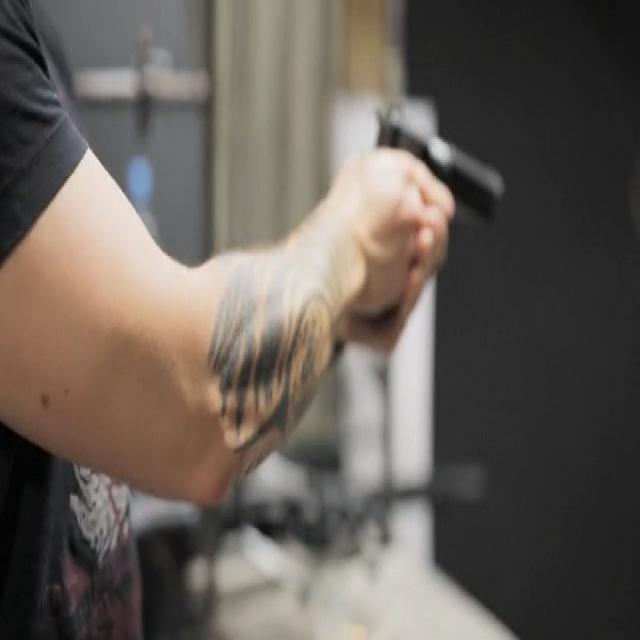Gun_Holder: (282, 92, 523, 421)
